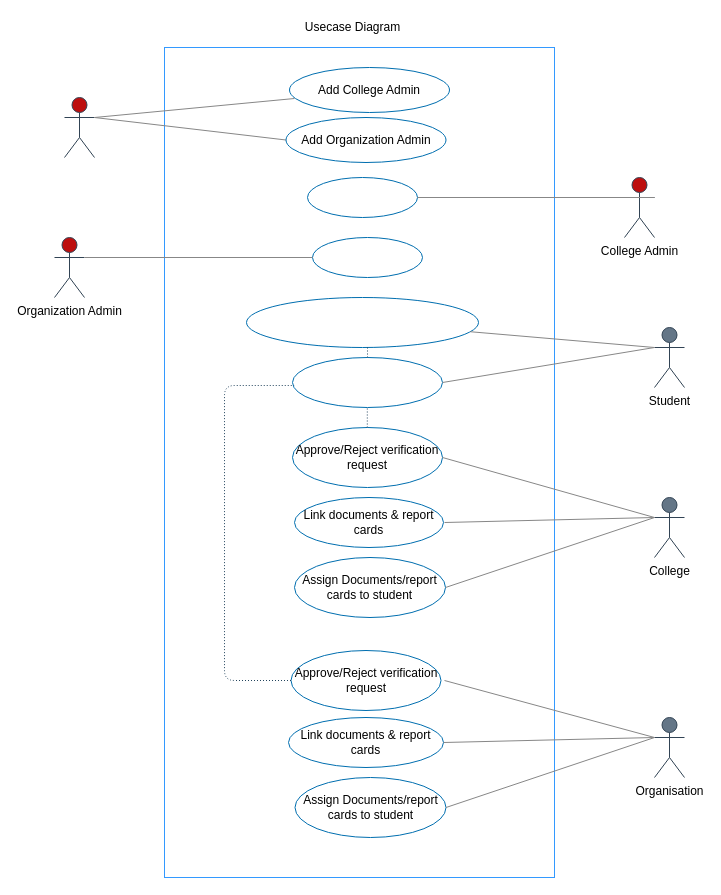
This 721x895 diagram has some shape labels left out. The shapes that lost their labels are listed below. From the top down, each one's centre as x and y in pixels, then its label:
the point at 79,127: Admin
the point at 362,197: Add College
the point at 367,257: Add Organization
the point at 362,322: Link documents/ report cards with verification request
the point at 367,382: Create verification request
